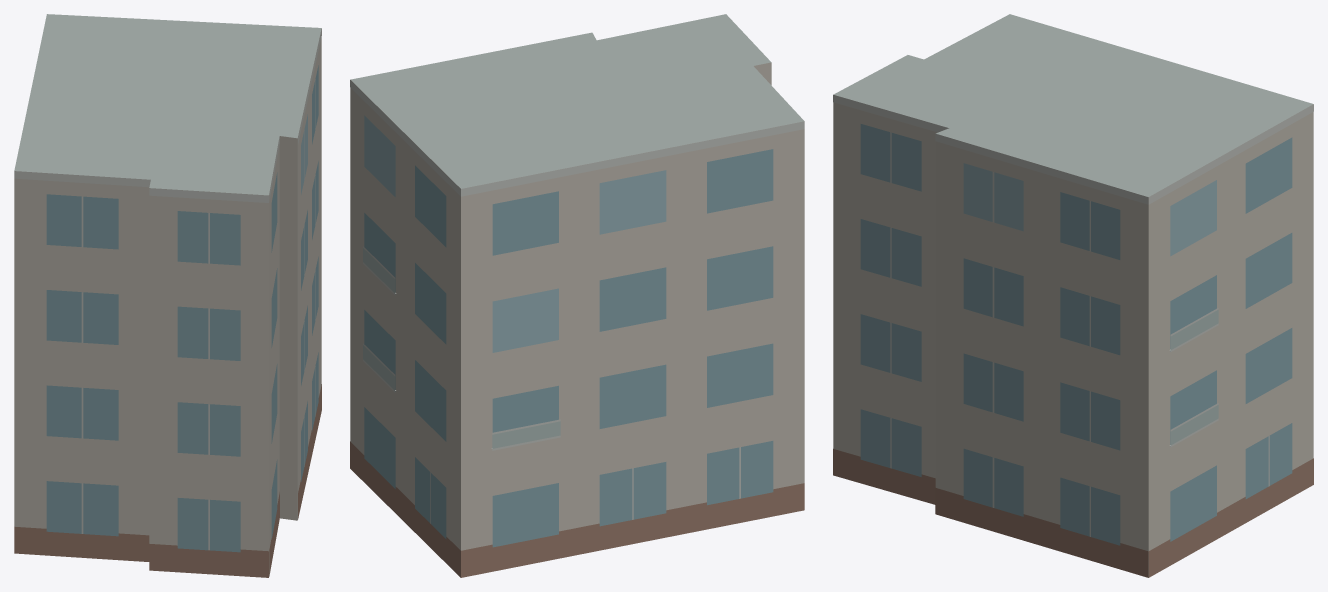
Rendered from residential-c74e6820-415d-4f89-a58a-3c56435bd00d.glb.
3 renders of one model, left to right at view 1: azimuth 30°, elevation 25°; view 2: azimuth 150°, elevation 25°; view 3: azimuth 270°, elevation 25°, orthographic. The views are drawn at different scales.
Visible parts, largest first — view 1: residential-c74e6820-415d-4f89-a58a-3c56435bd00d.tmp; view 2: residential-c74e6820-415d-4f89-a58a-3c56435bd00d.tmp; view 3: residential-c74e6820-415d-4f89-a58a-3c56435bd00d.tmp.
Boxes of the visible parts, x1=… form: residential-c74e6820-415d-4f89-a58a-3c56435bd00d.tmp: x1=14, y1=14, x2=321, y2=577; residential-c74e6820-415d-4f89-a58a-3c56435bd00d.tmp: x1=350, y1=14, x2=804, y2=577; residential-c74e6820-415d-4f89-a58a-3c56435bd00d.tmp: x1=833, y1=14, x2=1313, y2=577.
Size of the model in its own units: 12.6 by 12.2 by 13.97.
